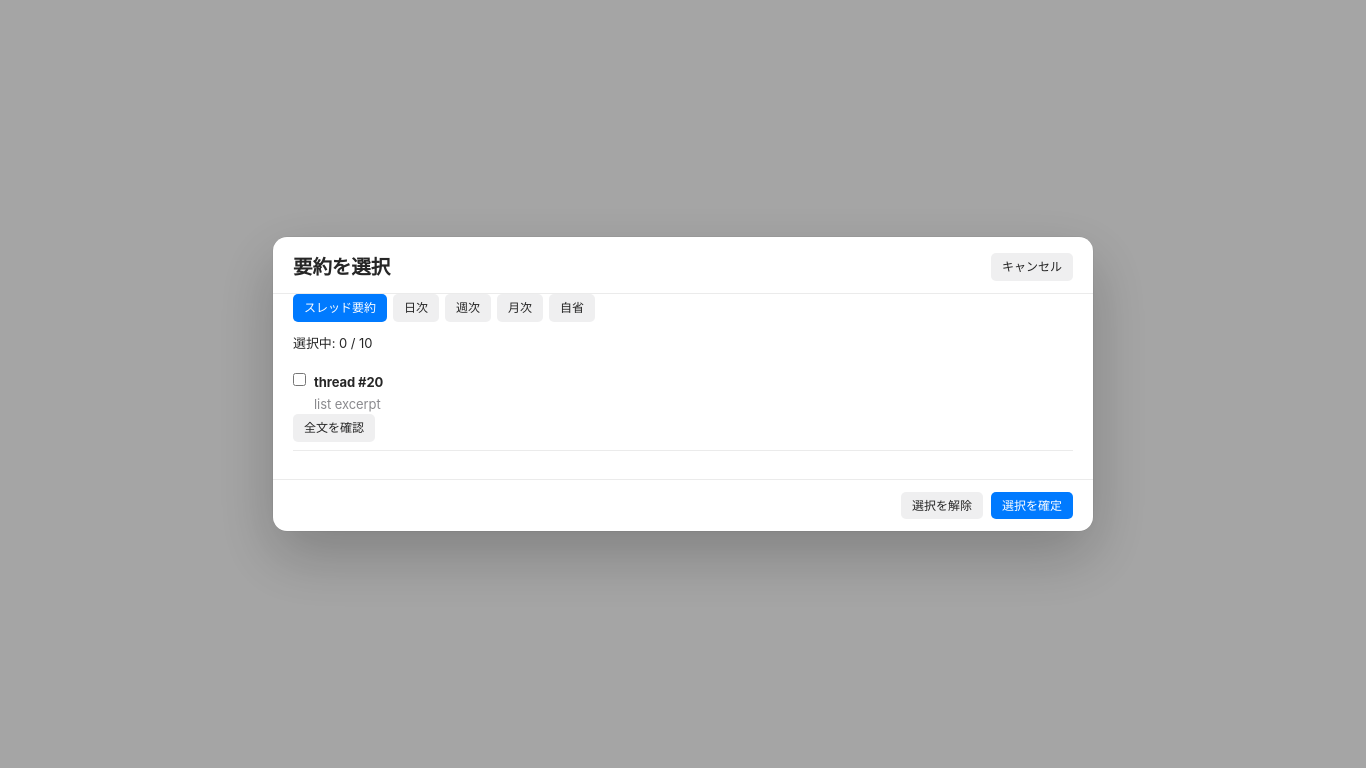
Scenario: SummarySelectionModal › renders non-JSON summary content as a readable fallback
Expected: the text "thread #20" is shown, [314,372,383,391]
Click the button "全文を確認": [334, 428] box [293,414,375,442]
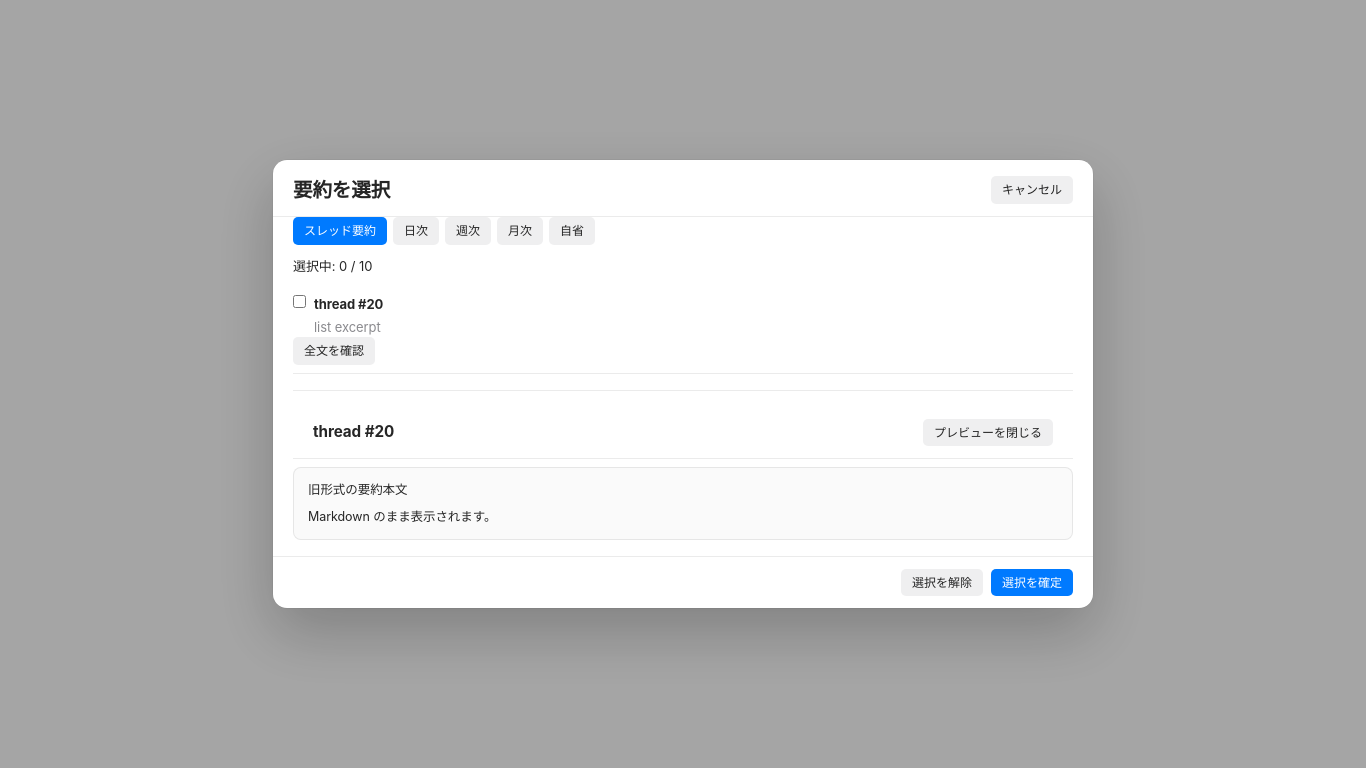
Now the text "旧形式の要約本文" is shown, box [308,482,408,497]
Now the text "Markdown のまま表示されます。" is shown, box [308,509,496,524]
